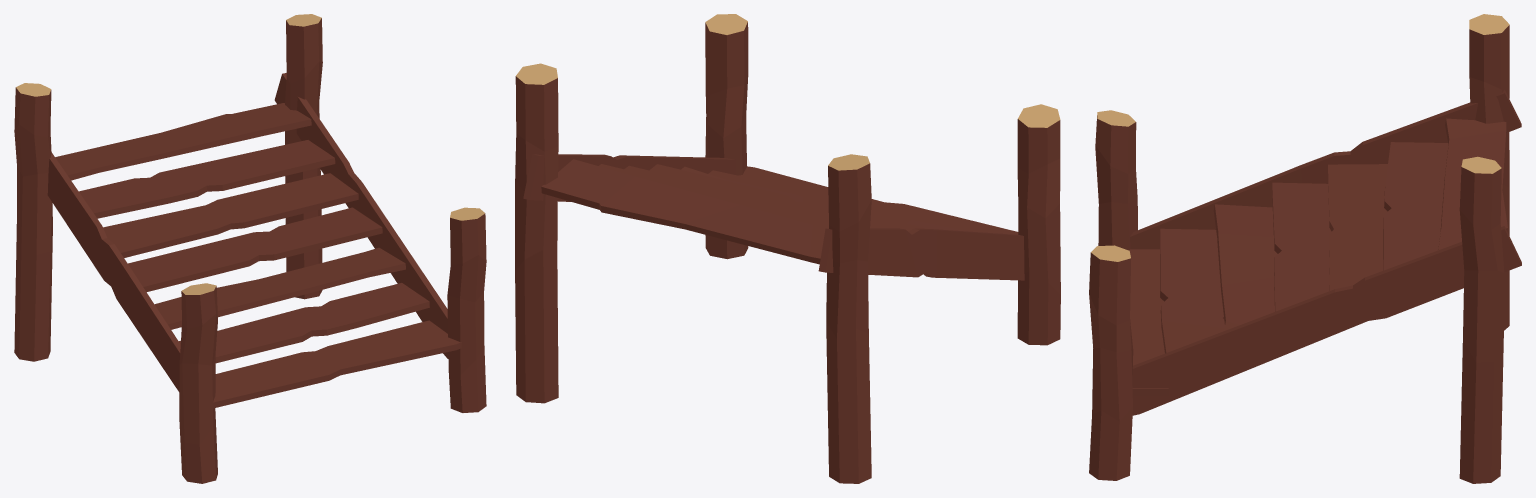
File: dock_stairs.glb
3 views of the same model, side by side, from view 1: azimuth 30°, elevation 25°; view 2: azimuth 150°, elevation 25°; view 3: azimuth 270°, elevation 25° (orthographic). The views are drawn at different scales.
Visible parts, largest first — view 1: Dock_Stairs; view 2: Dock_Stairs; view 3: Dock_Stairs.
Part boxes in pixels (x1=…): Dock_Stairs: x1=14, y1=14, x2=486, y2=483; Dock_Stairs: x1=515, y1=14, x2=1060, y2=483; Dock_Stairs: x1=1089, y1=14, x2=1521, y2=483.
Bounding box in the file's own units: 2.11 × 1.85 × 2.3.
